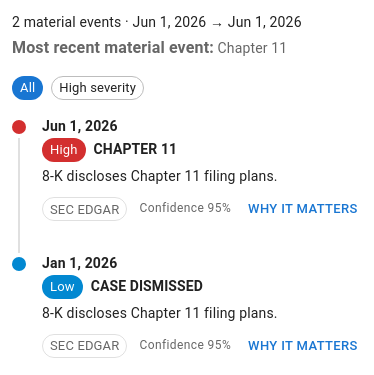
Scenario: DistressTimeline › filters to only high-severity events when the High severity chip is clicked
Expected: the heading "CHAPTER 11" is shown, x1=94 y1=139 x2=177 y2=161
Expected: the heading "CASE DISMISSED" is shown, x1=91 y1=276 x2=203 y2=298
Click the button "High severity" at {"x": 98, "y": 88}, box x1=51 y1=76 x2=144 y2=100
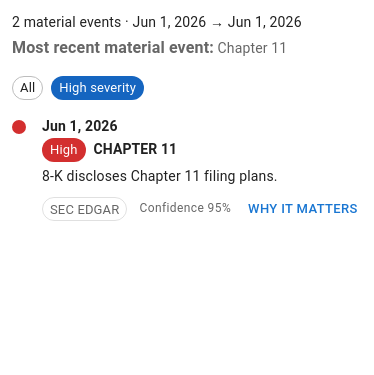
Expected: the heading "CHAPTER 11" is shown, x1=94 y1=139 x2=177 y2=161
Expected: the heading "CASE DISMISSED" is gone
